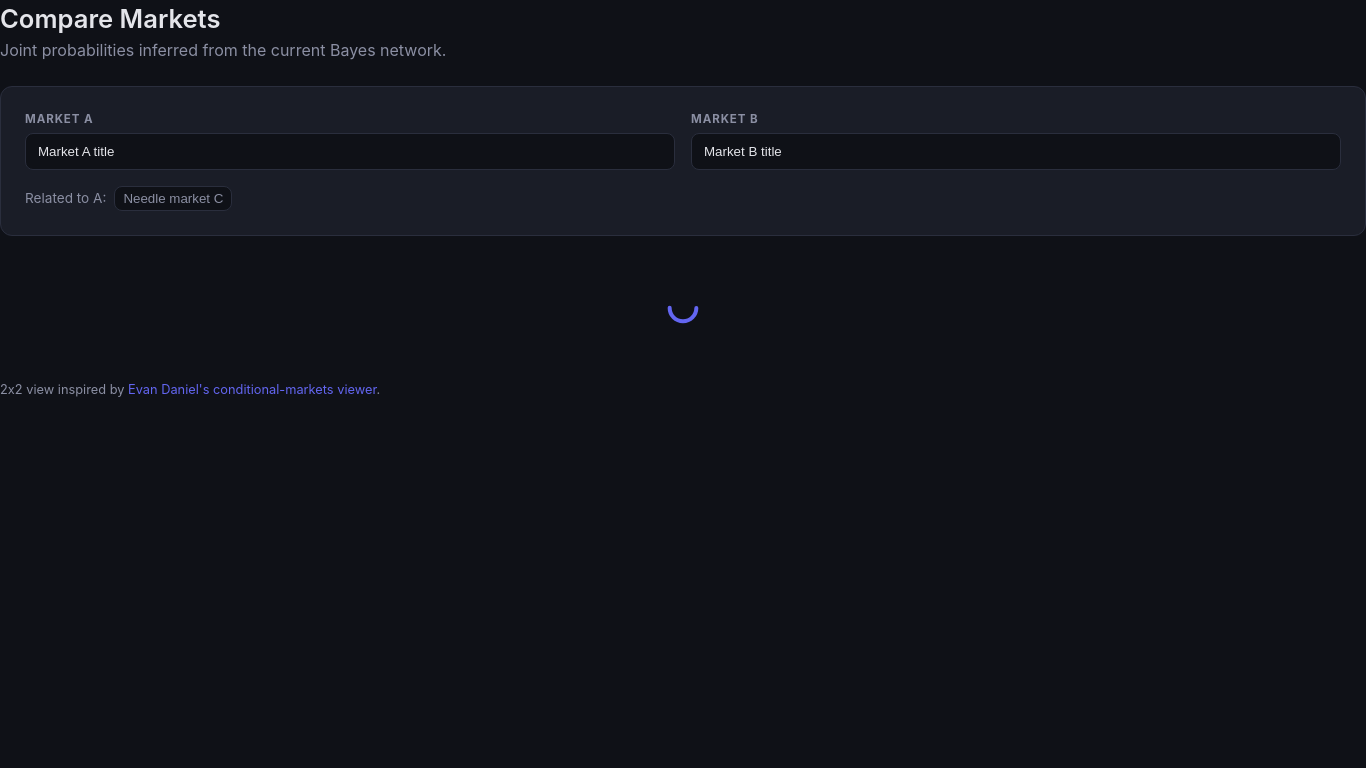
Test: Compare › renders graph neighbors and uses a neighbor chip for Market B
The image size is (1366, 768).
Click the button "Needle market C": {"x": 173, "y": 198} [114,186,232,211]
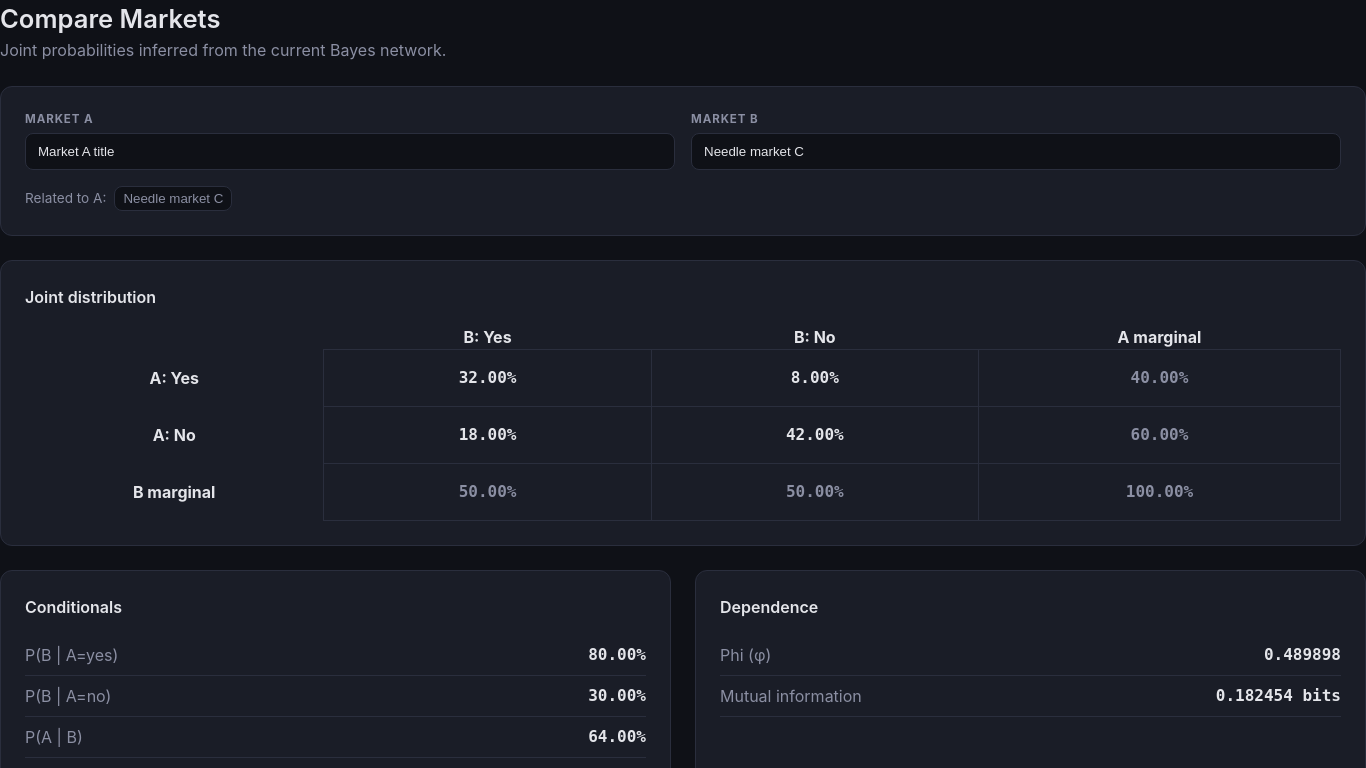
Now the dropdown labelled "Market B" holds "Needle market C", box [691,133,1341,170]
